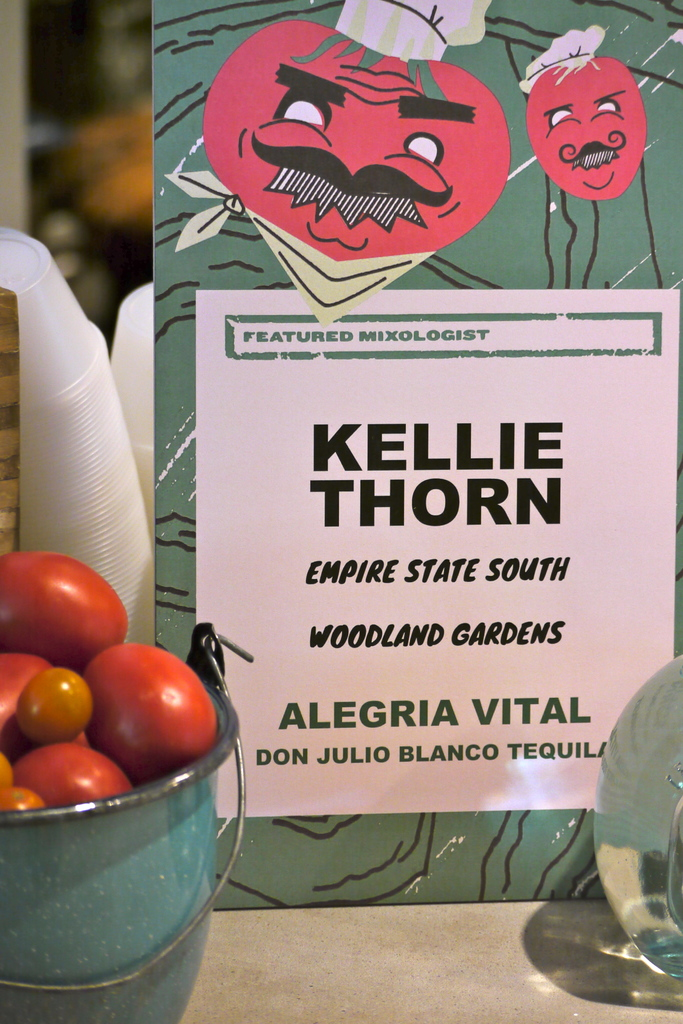Tomato: (0, 554, 221, 817), (79, 652, 203, 789)
